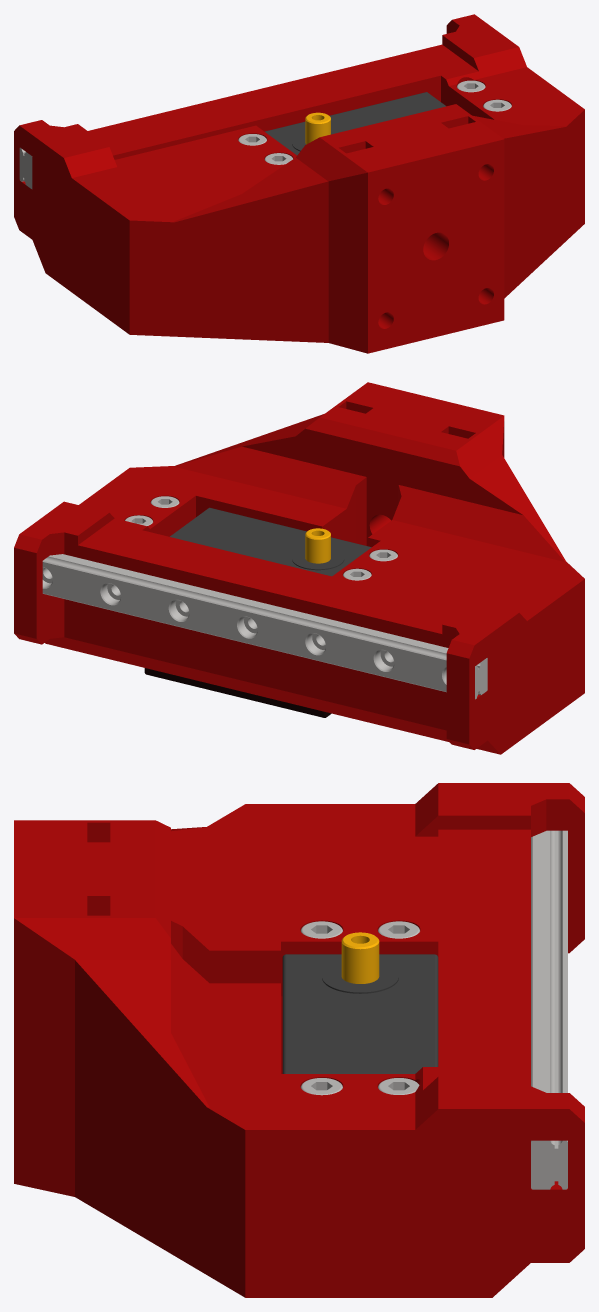
File: led_base.dae
3 views of the same model, one above another, from view 1: azimuth 30°, elevation 25°; view 2: azimuth 150°, elevation 25°; view 3: azimuth 270°, elevation 25° (orthographic). The views are drawn at different scales.
Visible parts, largest first — view 1: led_base; view 2: led_base; view 3: led_base.
Part boxes in pixels (x1,y1,x2,y2): led_base: (14, 14, 584, 353); led_base: (14, 382, 584, 754); led_base: (14, 783, 584, 1297).
Bounding box in the file's own units: 0.1 × 0.074 × 0.0433.
